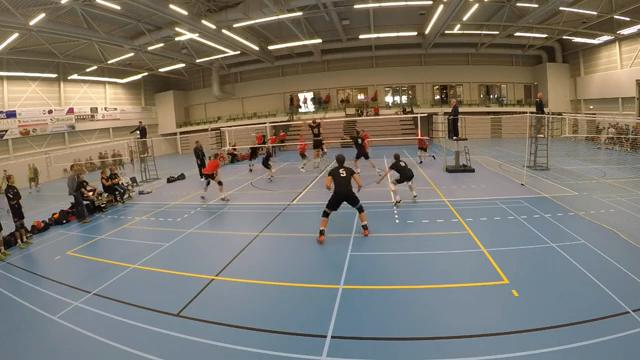Block: (298, 111, 328, 170)
Player: (317, 154, 368, 243), (377, 153, 417, 205), (349, 129, 380, 173), (203, 154, 228, 201), (417, 136, 435, 163), (262, 149, 274, 181), (298, 136, 307, 171), (249, 145, 259, 171), (360, 129, 369, 151), (321, 138, 327, 157)
